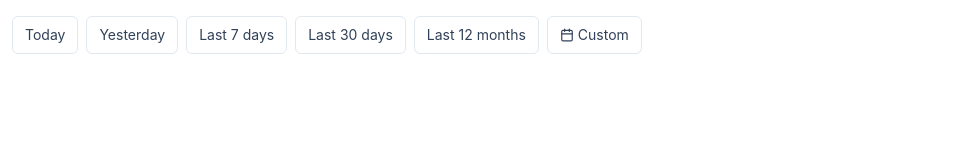
Test case: DateFilter custom inputs › adorns the From and To date inputs with a calendar icon
Click the button "Custom": (594, 35) top-left (547, 16), bottom-right (642, 54)
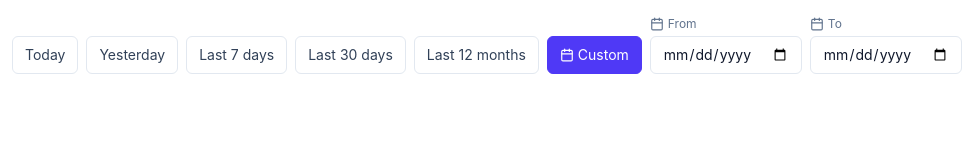
Check: the label named "From date" is shown, box top-left (650, 16), bottom-right (802, 74)
Check: the icon next to "From" is shown, box top-left (650, 17), bottom-right (664, 31)
Check: the label named "To date" is shown, box top-left (810, 16), bottom-right (962, 74)
